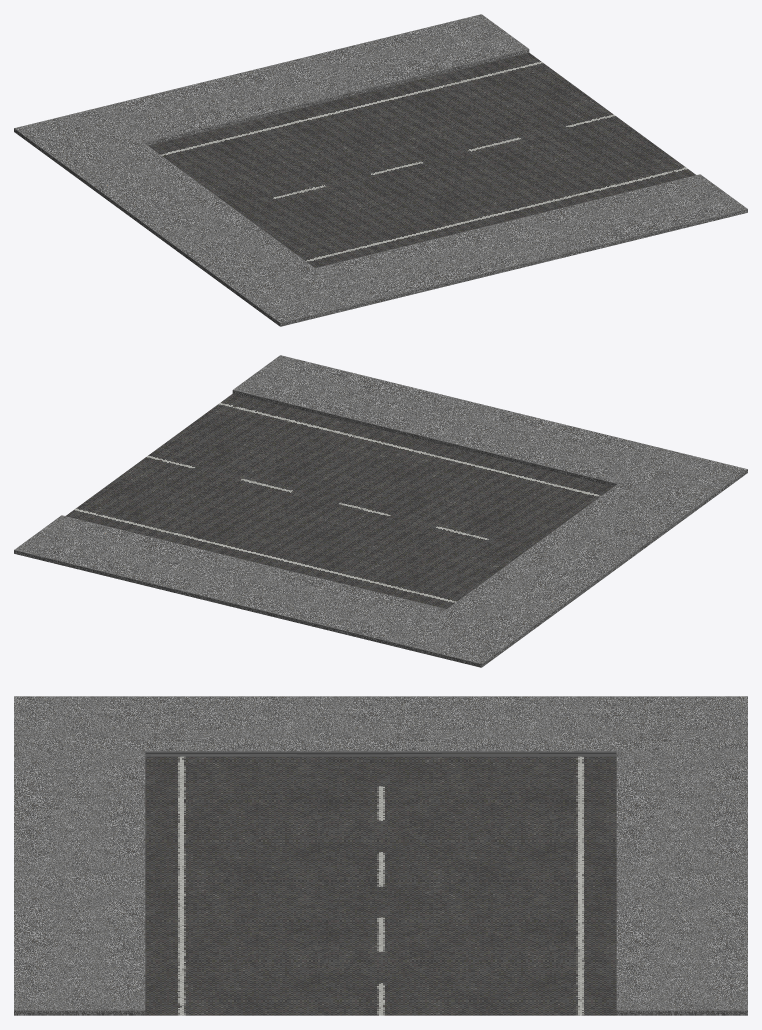
The model's file is Road_End.glb.
3 renders of one model, top to bottom at view 1: azimuth 30°, elevation 25°; view 2: azimuth 150°, elevation 25°; view 3: azimuth 270°, elevation 25°, orthographic. The views are drawn at different scales.
Parts seen in each view (by area): view 1: Road_End; view 2: Road_End; view 3: Road_End.
Part boxes in pixels (x1=…): Road_End: x1=14, y1=14, x2=747, y2=326; Road_End: x1=14, y1=355, x2=747, y2=667; Road_End: x1=14, y1=696, x2=747, y2=1015.
Bounding box in the file's own units: 15.79 × 0.1182 × 15.57.
Materials: 2 (2 with a texture image).
